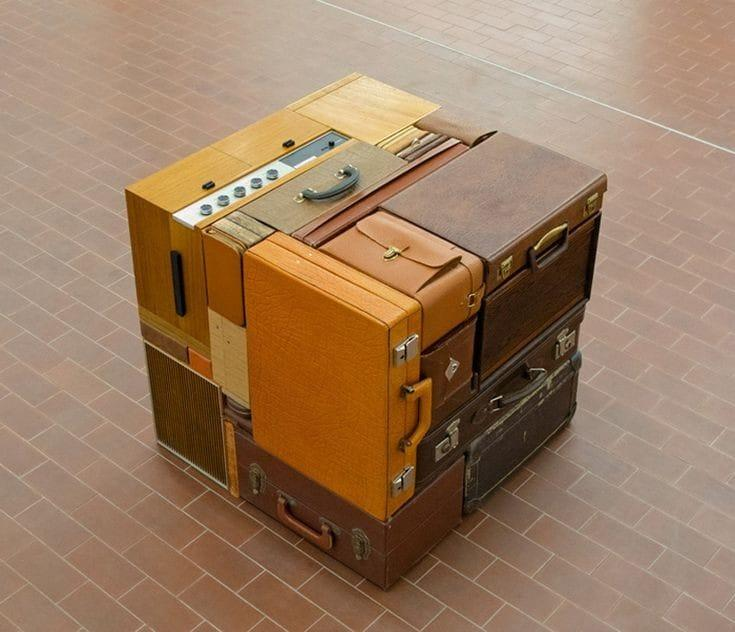cubos: (109, 67, 633, 600)
